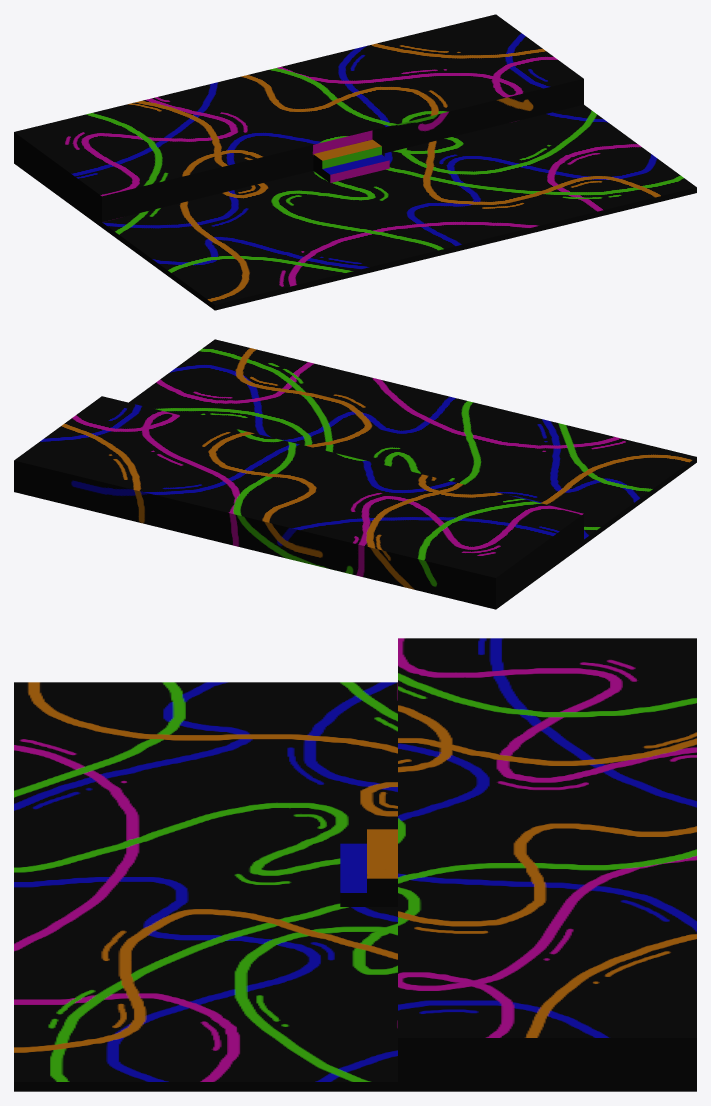
Rendered from Floor.fbx.
3 views of the same model, one above another, from view 1: azimuth 30°, elevation 25°; view 2: azimuth 150°, elevation 25°; view 3: azimuth 270°, elevation 25° (orthographic). The views are drawn at different scales.
Parts seen in each view (by area): view 1: Floor; view 2: Floor; view 3: Floor.
Boxes of the visible parts, x1,y1,x2,y2 form: Floor: (14,14,696,310); Floor: (14,339,696,609); Floor: (14,638,696,1091).
Bounding box in the file's own units: 18000 × 1124 × 13000.
1 material, 1 textured.
